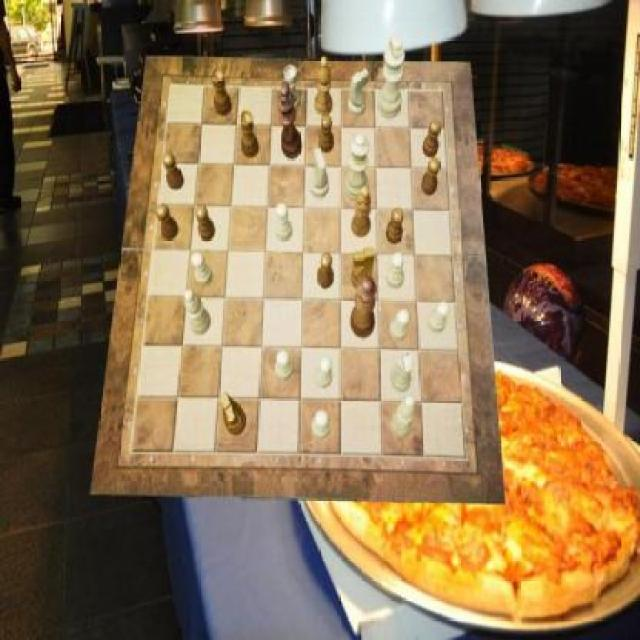bishop: (315, 57, 333, 117), (351, 186, 371, 239)
black-bishop: (277, 82, 303, 160)
black-king: (220, 392, 246, 436), (352, 248, 376, 292)
black-knight: (157, 203, 180, 241), (161, 151, 184, 189), (422, 157, 441, 195), (196, 204, 216, 240), (423, 120, 441, 158), (386, 208, 404, 244), (317, 252, 334, 290), (318, 114, 334, 152)
black-pawn: (350, 276, 378, 340)
black-queen: (212, 68, 232, 117), (240, 111, 260, 158)
black-rook: (184, 289, 212, 335), (391, 395, 415, 438)
white-bishop: (378, 36, 406, 120)
white-king: (348, 70, 368, 119), (310, 148, 328, 198)
white-knight: (191, 251, 213, 285), (428, 301, 450, 334), (391, 309, 411, 342), (388, 252, 405, 290), (277, 203, 294, 241), (315, 356, 333, 390), (276, 351, 294, 382), (313, 411, 332, 438)
white-pawn: (344, 134, 370, 200)
white-queen: (391, 352, 414, 392), (283, 66, 301, 116)
